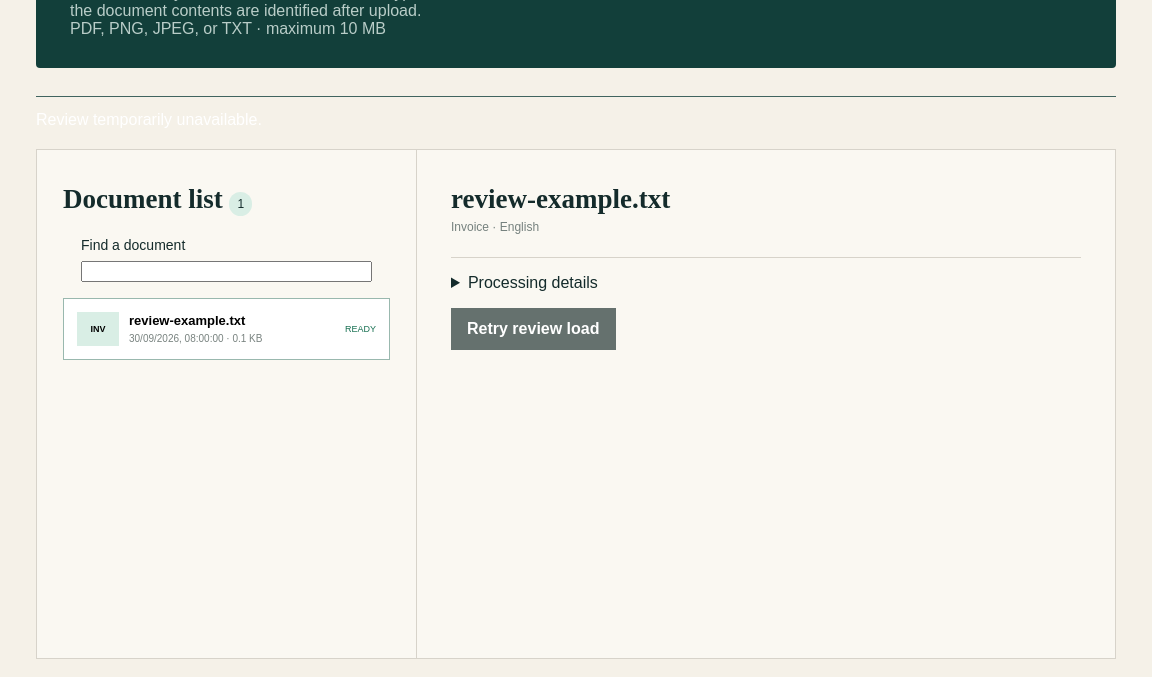
Test case: guided review and unsaved corrections › retries an initial failed review load without requiring a browser refresh
This screenshot has width=1152, height=677.
(page scrolled)
Expected: the element "Invoice number" is not shown
Click the button "Retry review load" at (533, 329), box [451,308,616,350]
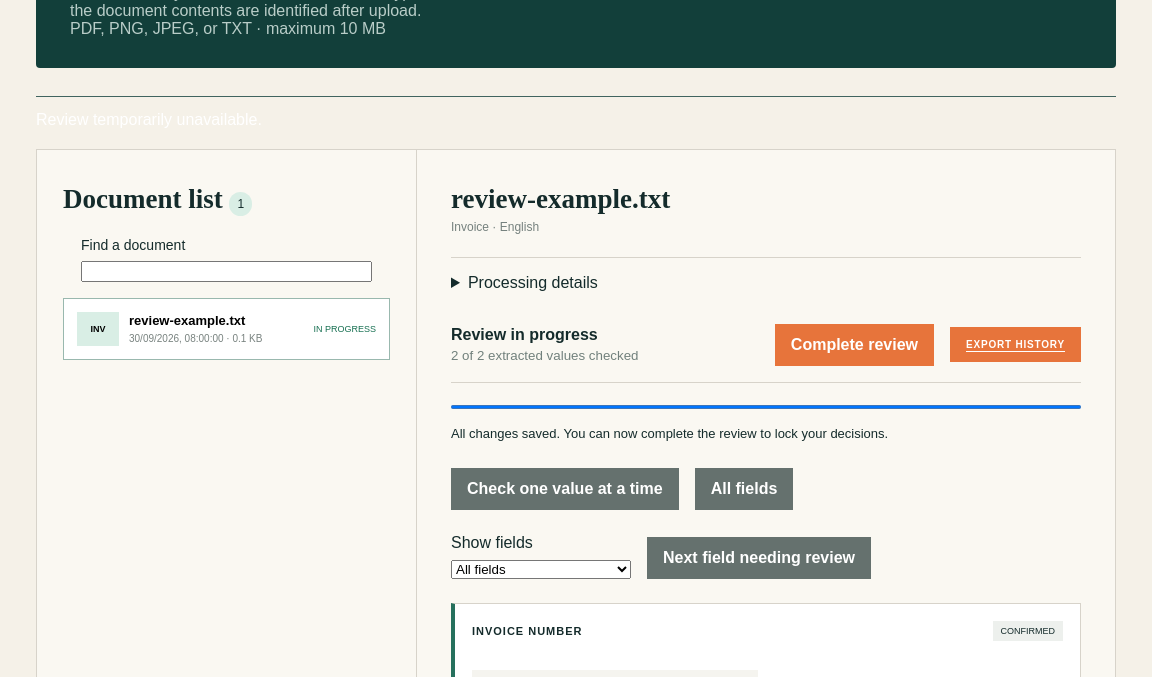
Expected: the button "Retry review load" is gone
Expected: the button "Complete review" is enabled, [775,324,934,366]
